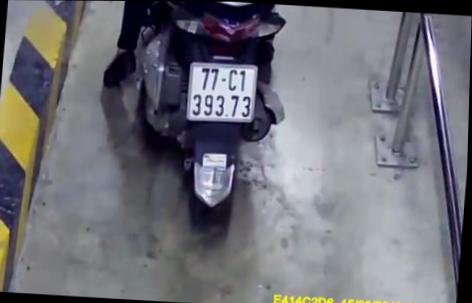LP: (187, 59, 259, 124)
